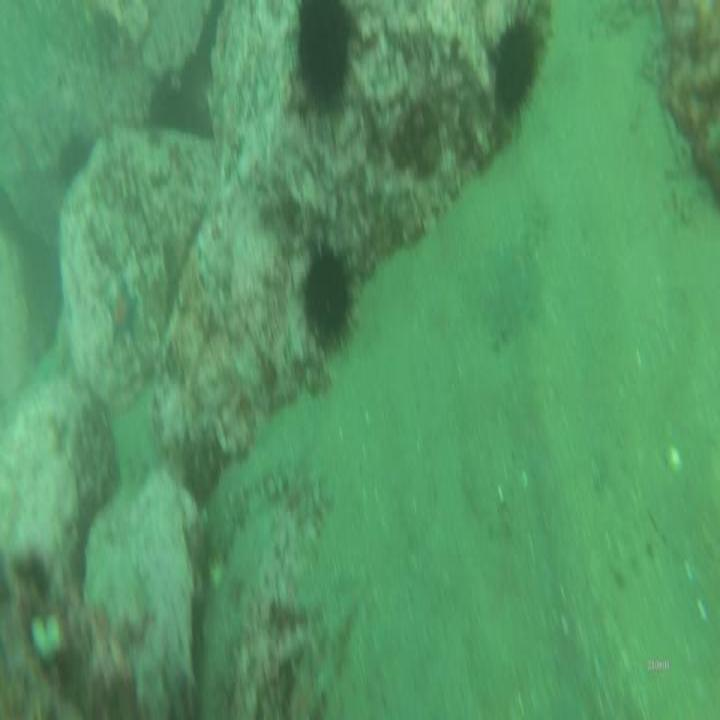echinus: (290, 2, 364, 126), (301, 242, 354, 356), (492, 9, 543, 123)
starfish: (104, 279, 141, 347)
